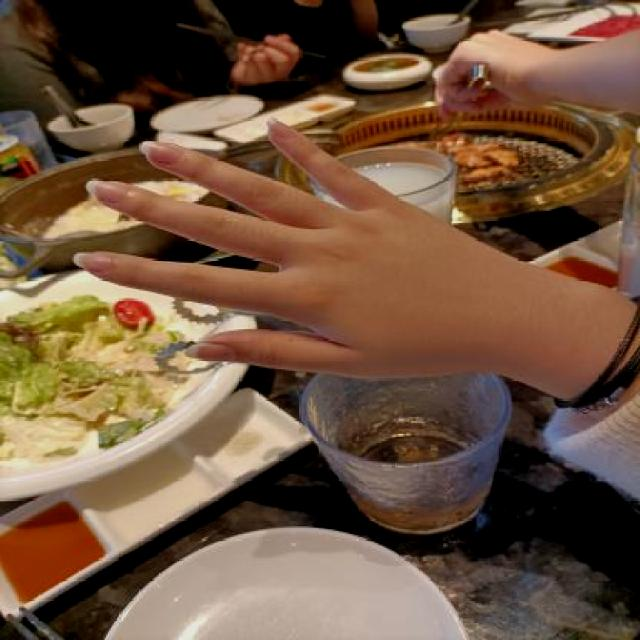no_glove: (53, 108, 539, 386)
